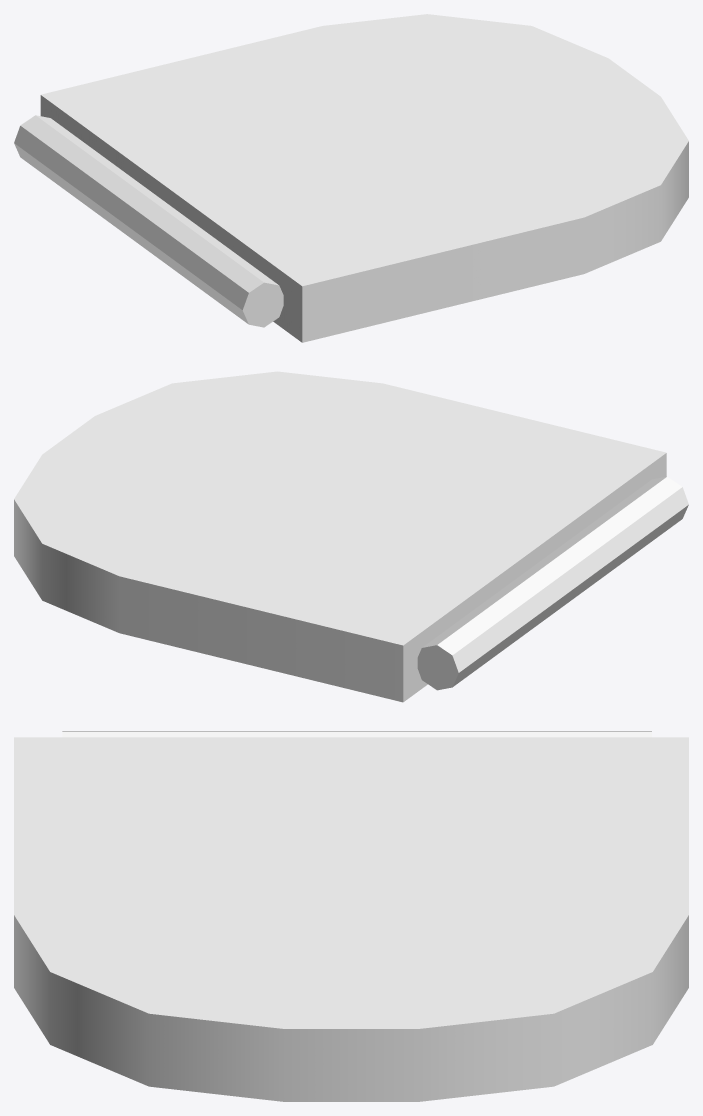
Rendered from Inodoro_Tapa.fbx.
The picture shows the model from 3 angles, top to bottom: view 1: azimuth 30°, elevation 25°; view 2: azimuth 150°, elevation 25°; view 3: azimuth 270°, elevation 25°; orthographic projection. The views are drawn at different scales.
Parts seen in each view (by area): view 1: Inodoro_Tapa; view 2: Inodoro_Tapa; view 3: Inodoro_Tapa.
Part boxes in pixels (x1,y1,x2,y2): Inodoro_Tapa: (14, 14, 688, 342); Inodoro_Tapa: (14, 371, 688, 702); Inodoro_Tapa: (14, 731, 688, 1101).
Bounding box in the file's own units: 50.91 × 5.46 × 45.78.
